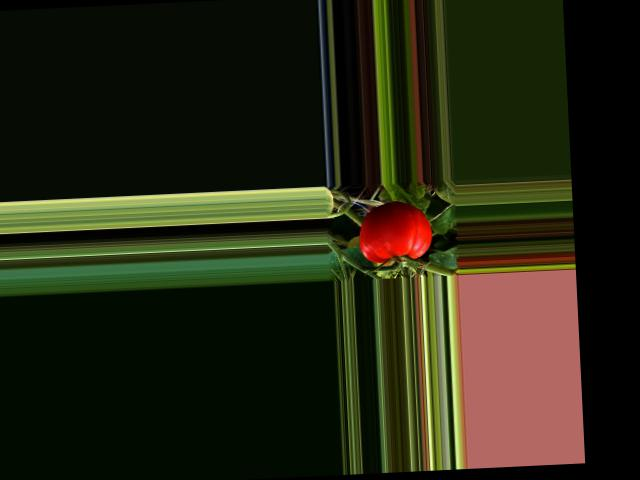tomato: (356, 199, 432, 263)
